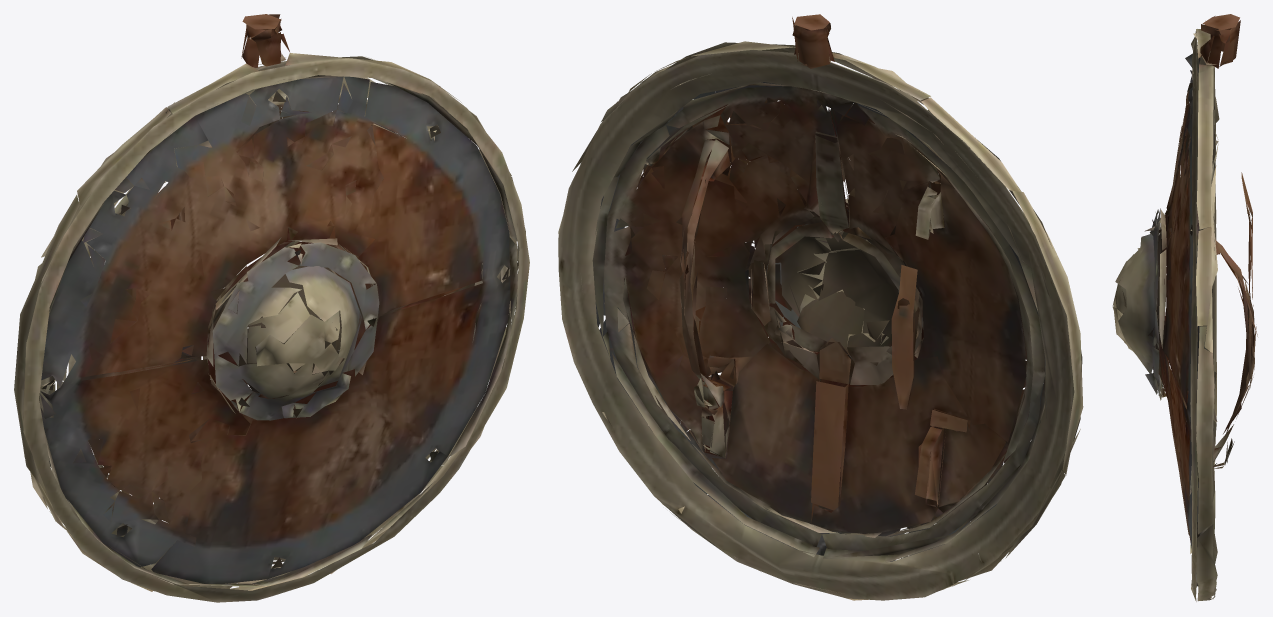
Rendered from shield.glb.
3 views of the same model, side by side, from view 1: azimuth 30°, elevation 25°; view 2: azimuth 150°, elevation 25°; view 3: azimuth 270°, elevation 25° (orthographic). The views are drawn at different scales.
Parts seen in each view (by area): view 1: shield; view 2: shield; view 3: shield.
Part boxes in pixels (box(x1,y1,x2,y2)): shield: box(14, 14, 529, 602); shield: box(558, 14, 1083, 600); shield: box(1112, 14, 1257, 601).
Bounding box in the file's own units: 0.9355 × 0.9998 × 0.2388.
1 material, 1 textured.
